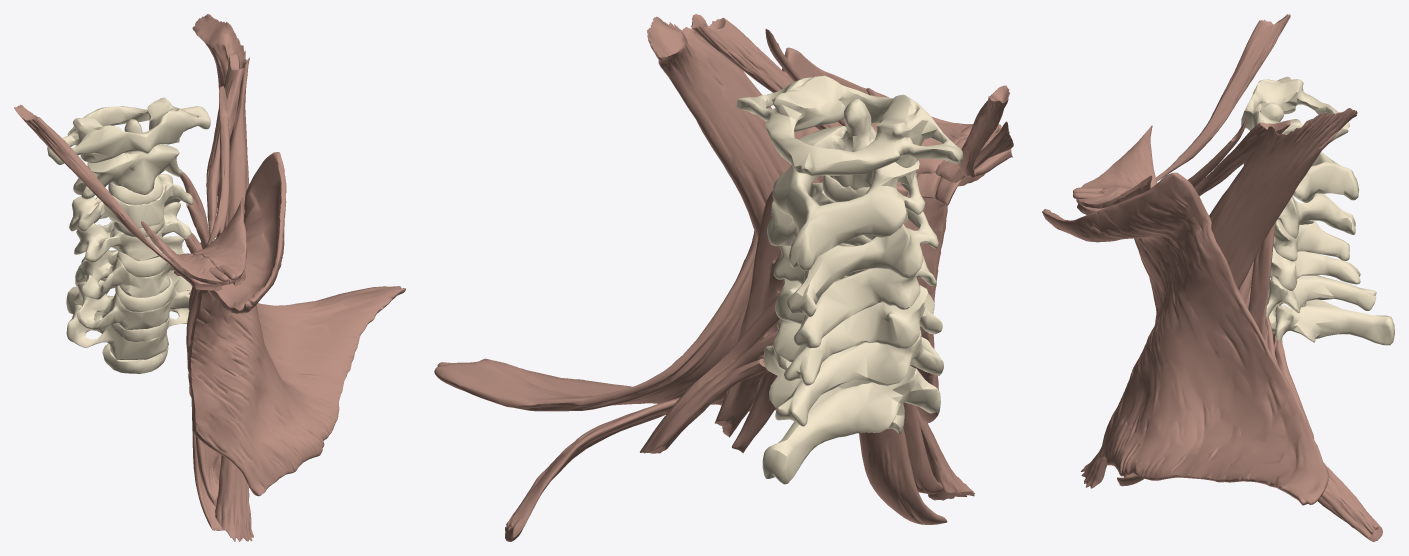
The model's file is neck-0.glb.
3 renders of one model, left to right at view 1: azimuth 30°, elevation 25°; view 2: azimuth 150°, elevation 25°; view 3: azimuth 270°, elevation 25°, orthographic. The views are drawn at different scales.
Visible parts, largest first — view 1: FJ1558, FJ1573, FJ3176, FJ3177, FJ3170, FJ3167, FJ3164, FJ3172, FJ3161, FJ1579, FJ1578, FJ1562 (+10 smaller); view 2: FJ1558, FJ1573, FJ3176, FJ3177, FJ3172, FJ3161, FJ3170, FJ3167, FJ3164, FJ1572, FJ1571, FJ1575 (+8 smaller); view 3: FJ1558, FJ1573, FJ3172, FJ1579, FJ3176, FJ3170, FJ3177, FJ3167, FJ1583, FJ3164, FJ3161, FJ1565 (+5 smaller).
Part boxes in pixels (x1,y1,x2,y2): FJ1558: [187, 152, 405, 496]; FJ1573: [192, 14, 253, 541]; FJ3176: [47, 97, 210, 164]; FJ3177: [73, 119, 182, 199]; FJ3170: [74, 270, 192, 330]; FJ3167: [75, 236, 184, 299]; FJ3164: [74, 202, 191, 262]; FJ3172: [66, 286, 189, 359]; FJ3161: [69, 174, 193, 231]; FJ1579: [14, 104, 163, 258]; FJ1578: [206, 53, 244, 235]; FJ1562: [192, 197, 247, 284]; FJ1558: [434, 47, 1001, 422]; FJ1573: [647, 14, 974, 500]; FJ3176: [736, 75, 963, 176]; FJ3177: [772, 99, 924, 270]; FJ3172: [762, 344, 940, 484]; FJ3161: [767, 182, 938, 316]; FJ3170: [773, 319, 943, 426]; FJ3167: [775, 279, 942, 385]; FJ3164: [773, 243, 936, 347]; FJ1572: [640, 301, 779, 453]; FJ1571: [715, 190, 783, 437]; FJ1575: [859, 428, 947, 524]; FJ1558: [1042, 172, 1328, 505]; FJ1573: [1081, 108, 1357, 488]; FJ3172: [1269, 299, 1394, 345]; FJ1579: [1156, 14, 1290, 181]; FJ3176: [1241, 76, 1349, 142]; FJ3170: [1265, 275, 1376, 319]; FJ3177: [1243, 102, 1359, 201]; FJ3167: [1250, 219, 1360, 290]; FJ1583: [1081, 125, 1156, 192]; FJ3164: [1273, 220, 1349, 261]; FJ3161: [1277, 193, 1355, 238]; FJ1565: [1233, 424, 1382, 541].
Size of the model in its own units: 0.2034 by 0.2012 by 0.1522.
